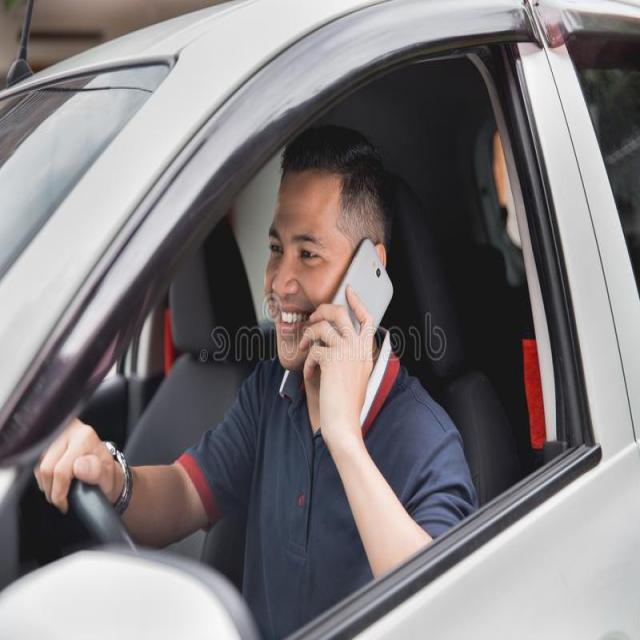phone: (324, 239, 395, 341)
